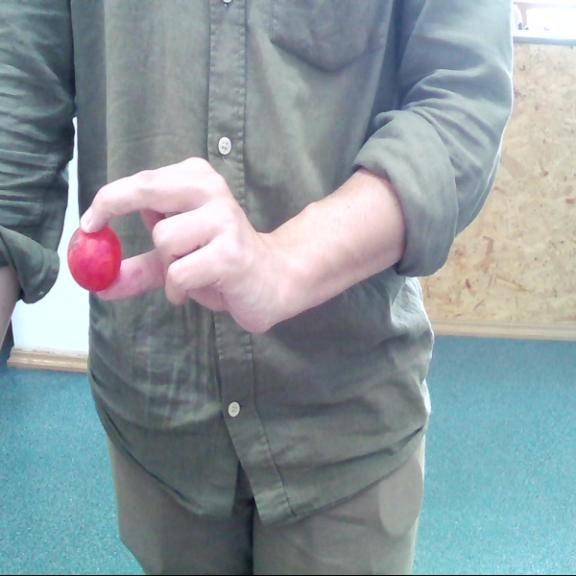ball: (67, 224, 120, 291)
